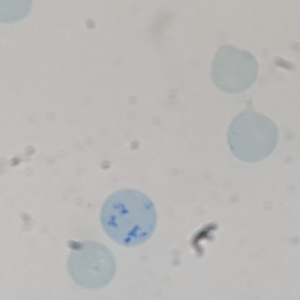aggregate reticulocyte: (97, 187, 159, 248)
erythrocyte: (65, 239, 119, 291), (208, 43, 260, 96)
punctate reticulocyte: (225, 97, 281, 164)
